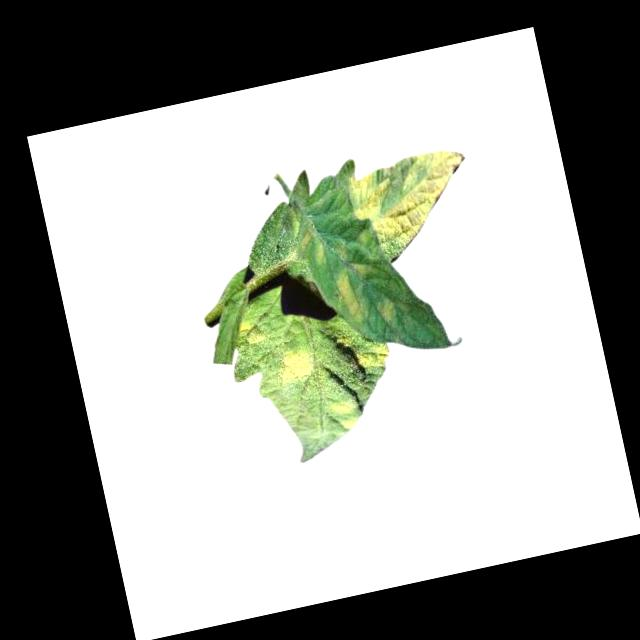Leaf_Mold: (343, 144, 481, 256), (274, 342, 323, 387), (333, 267, 368, 327), (328, 394, 364, 435), (356, 338, 393, 373), (232, 316, 266, 351), (375, 294, 399, 329)
